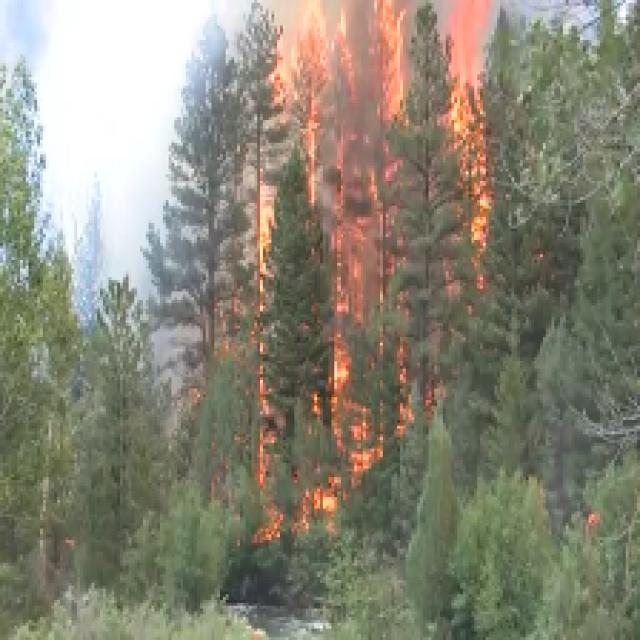smoke: (50, 8, 171, 230)
